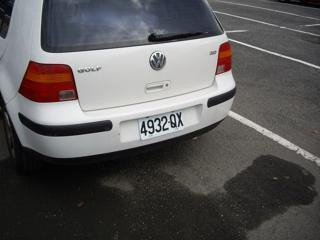plate: (137, 110, 185, 137)
